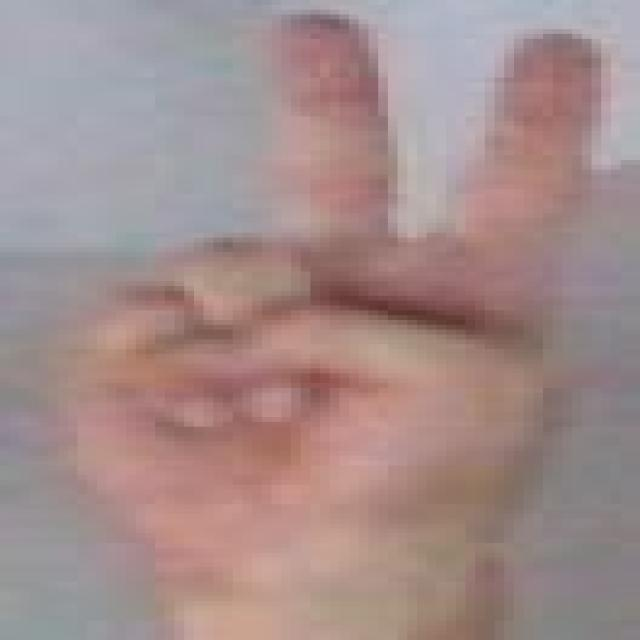V: (11, 0, 629, 572)
